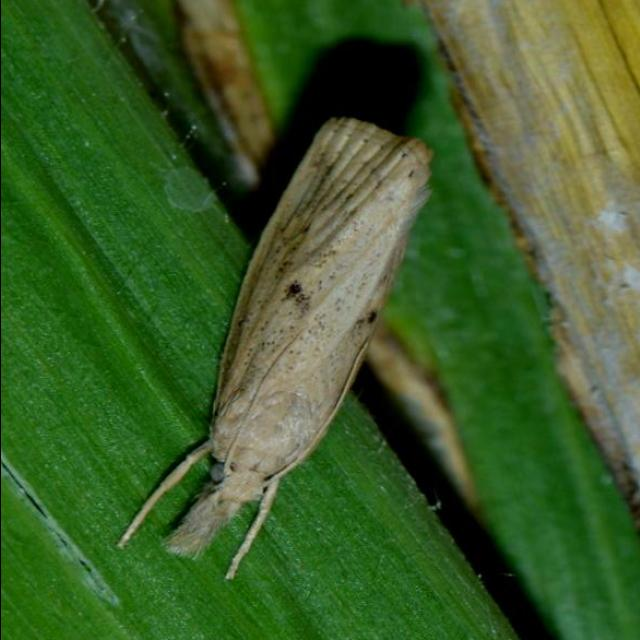stem borer: (166, 118, 429, 578)
